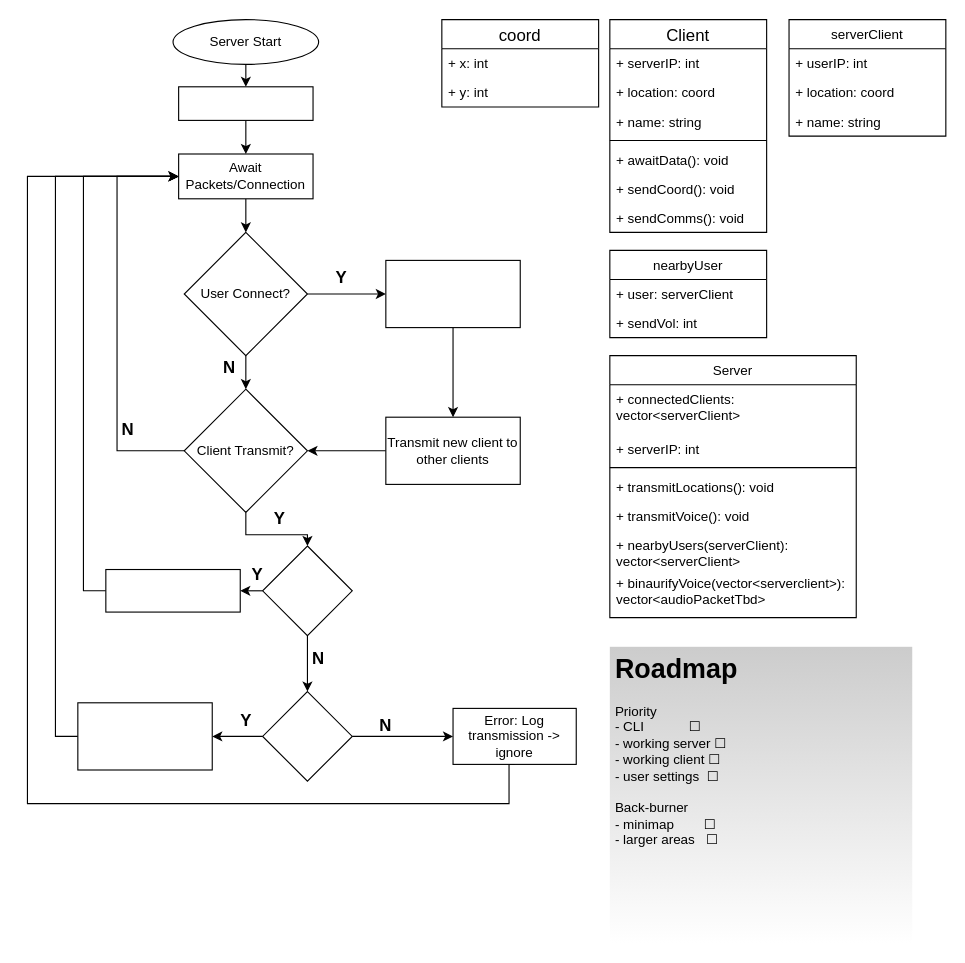
Image size: 965x963. Some labels were removed from this diagram. Each missing label, with the centre of its shape:
"Add client to connectedClients" goes at pixel 452 293.
"Binaurify, transmit to nearbyClients" goes at pixel 144 736.
"Initial Setup" goes at pixel 245 103.
"Movement?" goes at pixel 307 590.
"Speech?" goes at pixel 307 735.
"Transmit to all clients" goes at pixel 172 590.
